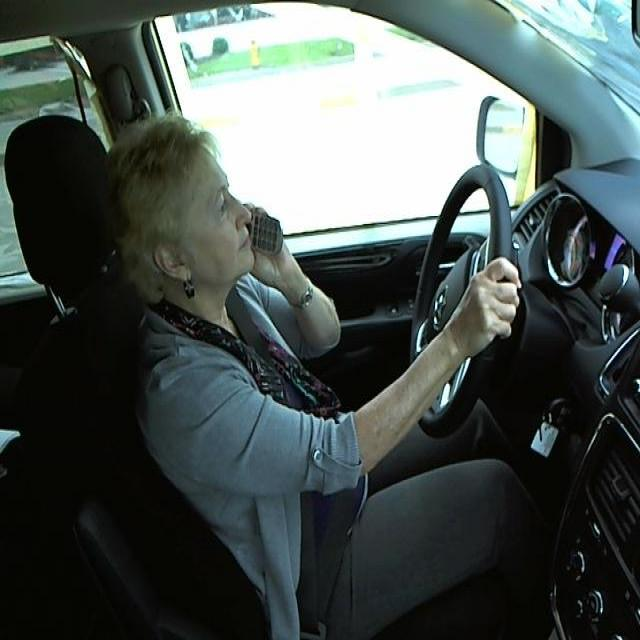using_phone: (93, 105, 332, 308)
